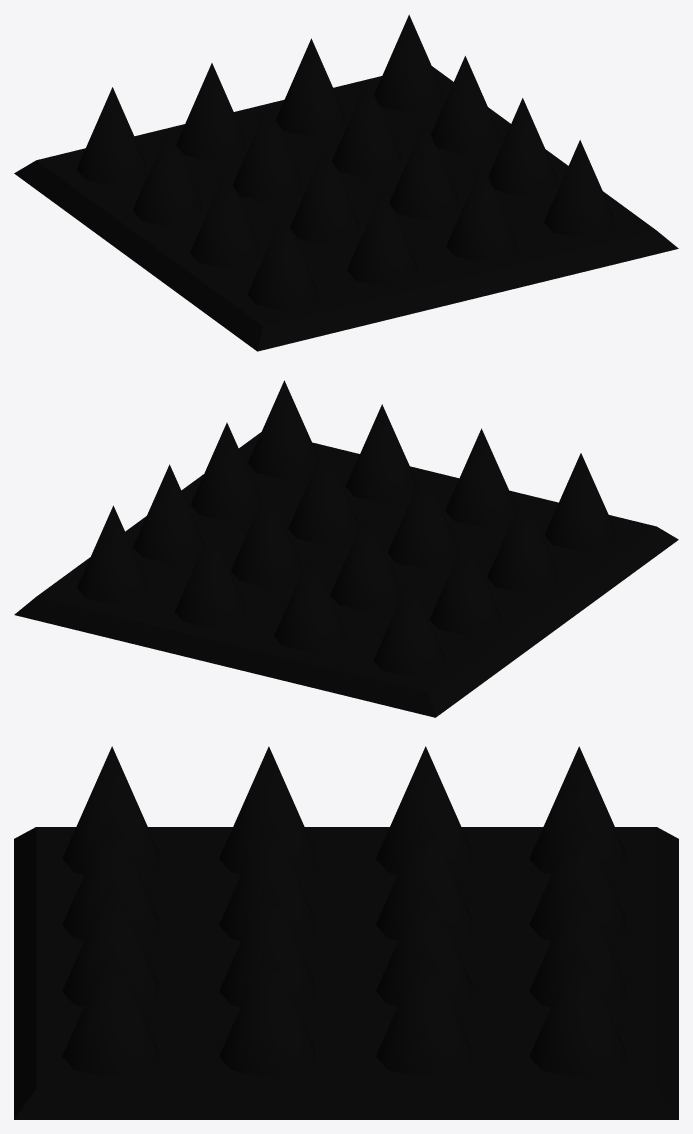
File: spike_trap.fbx
3 renders of one model, top to bottom at view 1: azimuth 30°, elevation 25°; view 2: azimuth 150°, elevation 25°; view 3: azimuth 270°, elevation 25°, orthographic. The views are drawn at different scales.
Parts seen in each view (by area): view 1: spikes, base; view 2: spikes, base; view 3: base, spikes.
Part boxes in pixels (left/top/right/bottom): spikes: left=76, top=14, right=613, bottom=309; base: left=14, top=66, right=678, bottom=351; spikes: left=77, top=380, right=615, bottom=675; base: left=14, top=432, right=678, bottom=717; base: left=14, top=827, right=678, bottom=1119; spikes: left=62, top=746, right=626, bottom=1077.
Size of the model in its own units: 214 by 47.77 by 214.
